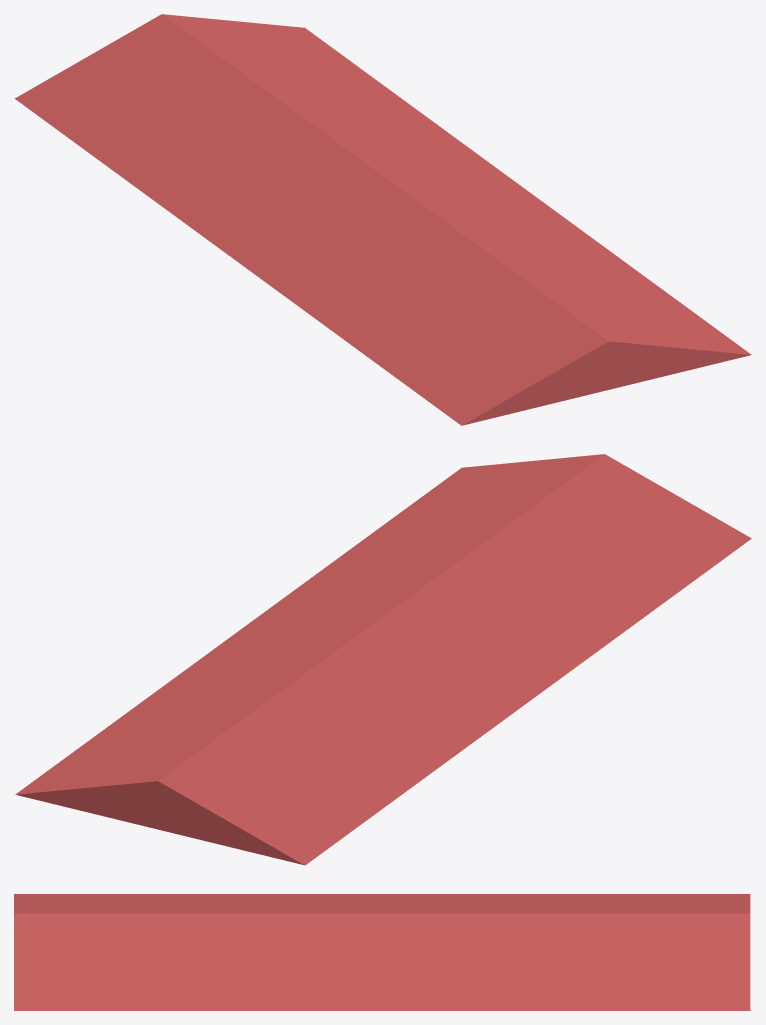
Rendered from fl_shiso.glb.
3 views of the same model, one above another, from view 1: azimuth 30°, elevation 25°; view 2: azimuth 150°, elevation 25°; view 3: azimuth 270°, elevation 25° (orthographic). The views are drawn at different scales.
Visible parts, largest first — view 1: fl_shiso_col; view 2: fl_shiso_col; view 3: fl_shiso_col.
Part boxes in pixels (x1,y1,x2,y2): fl_shiso_col: (14, 14, 751, 425); fl_shiso_col: (15, 454, 751, 865); fl_shiso_col: (14, 894, 751, 1010).
Size of the model in its own units: 0.7503 by 0.12 by 2.
